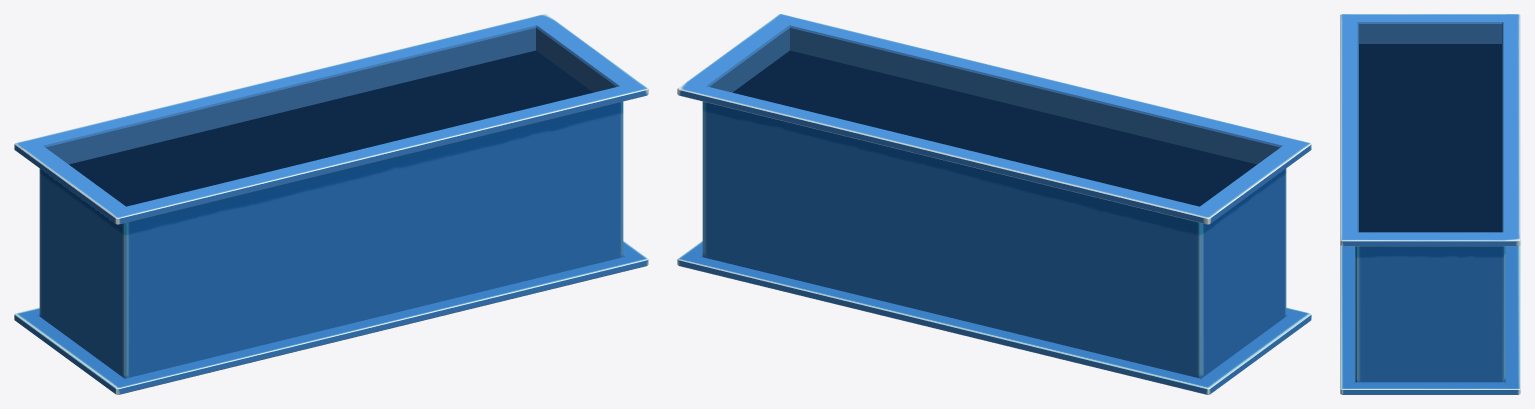
File: Md_Case.fbx
The picture shows the model from 3 angles, left to right: view 1: azimuth 30°, elevation 25°; view 2: azimuth 150°, elevation 25°; view 3: azimuth 270°, elevation 25°; orthographic projection. The views are drawn at different scales.
Parts seen in each view (by area): view 1: pCube2; view 2: pCube2; view 3: pCube2.
Part boxes in pixels (<box>): pCube2: <box>14,14,648,394</box>; pCube2: <box>677,14,1311,394</box>; pCube2: <box>1340,14,1520,394</box>.
Size of the model in its own units: 300 by 99.59 by 101.
